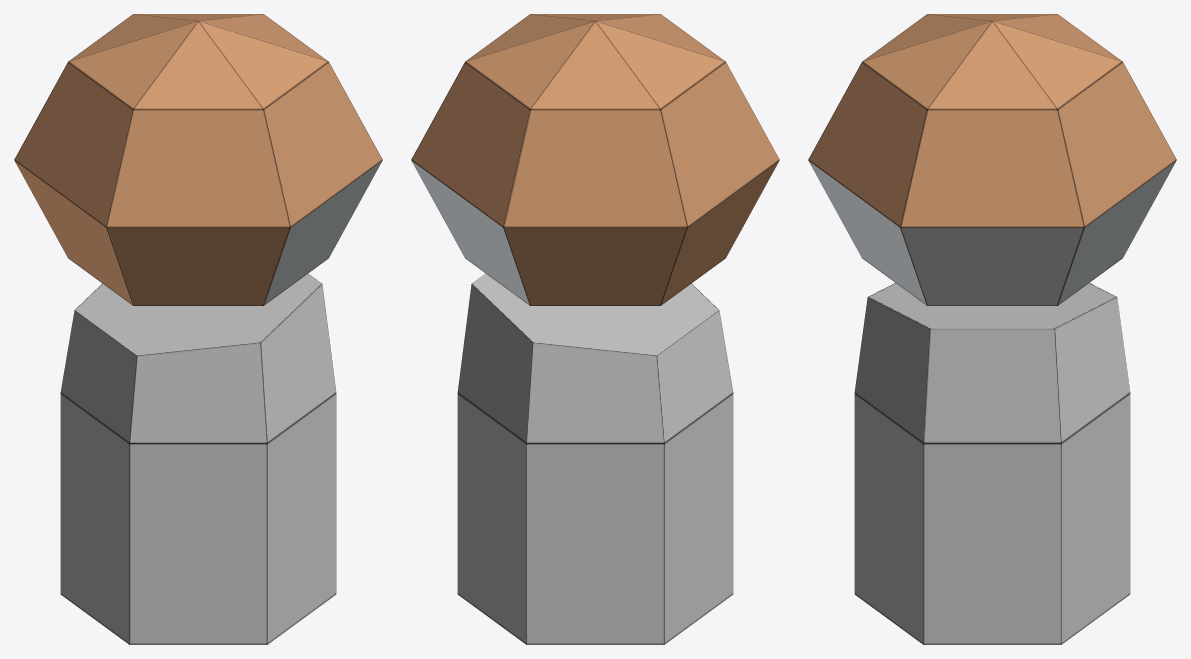
File: guard.fbx
3 views of the same model, side by side, from view 1: azimuth 30°, elevation 25°; view 2: azimuth 150°, elevation 25°; view 3: azimuth 270°, elevation 25° (orthographic).
Visible parts, largest first — view 1: Guard; view 2: Guard; view 3: Guard.
Part boxes in pixels (x1,y1,x2,y2): Guard: (14, 14, 382, 644); Guard: (411, 14, 779, 644); Guard: (808, 14, 1176, 644).
Size of the model in its own units: 134 by 231 by 116.
